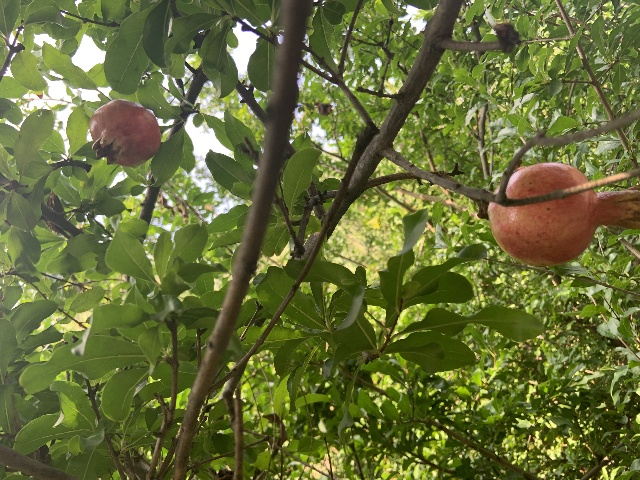ripe: (486, 162, 640, 266), (88, 99, 160, 166)
